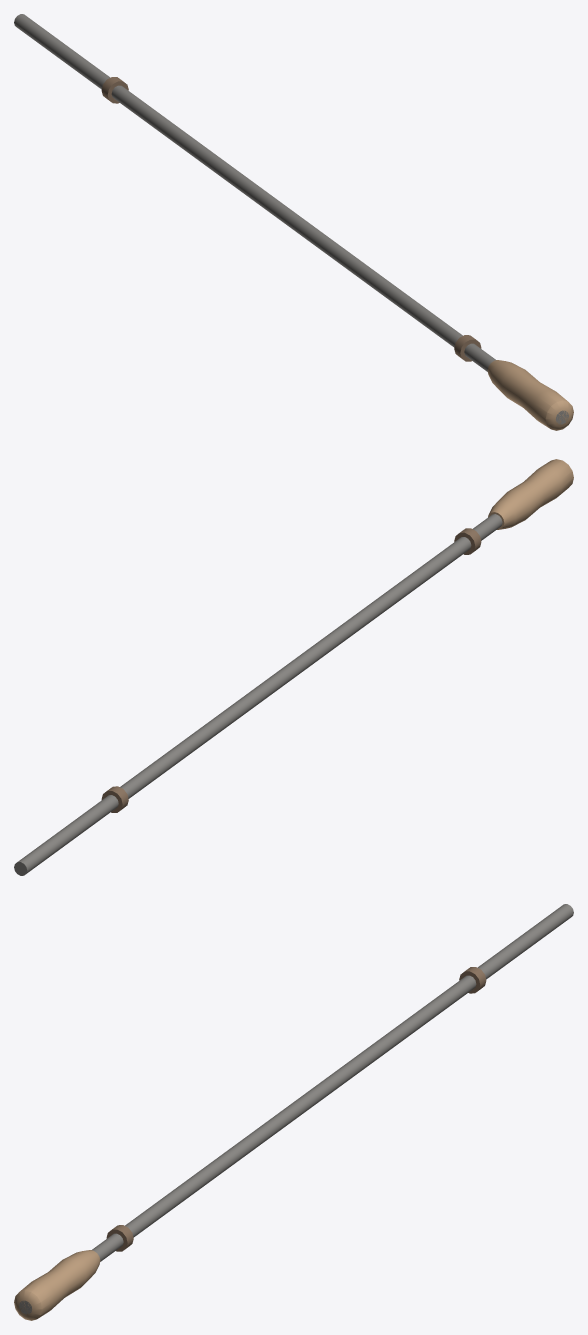
Rendered from foosball-rod.glb.
3 renders of one model, top to bottom at view 1: azimuth 30°, elevation 25°; view 2: azimuth 150°, elevation 25°; view 3: azimuth 330°, elevation 25°, orthographic.
Parts seen in each view (by area): view 1: rod, handle, bumpers; view 2: rod, handle, bumpers; view 3: rod, handle, bumpers.
Part boxes in pixels (box(x1,y1,x2,y2)): rod: box(14, 14, 568, 424); handle: box(487, 360, 573, 430); bumpers: box(101, 77, 481, 361); rod: box(14, 514, 502, 875); handle: box(488, 459, 573, 529); bumpers: box(101, 528, 481, 812); rod: box(19, 904, 573, 1314); handle: box(14, 1250, 100, 1320); bumpers: box(106, 967, 486, 1251).
Size of the model in its own units: 0.034 by 0.0331 by 1.06.
